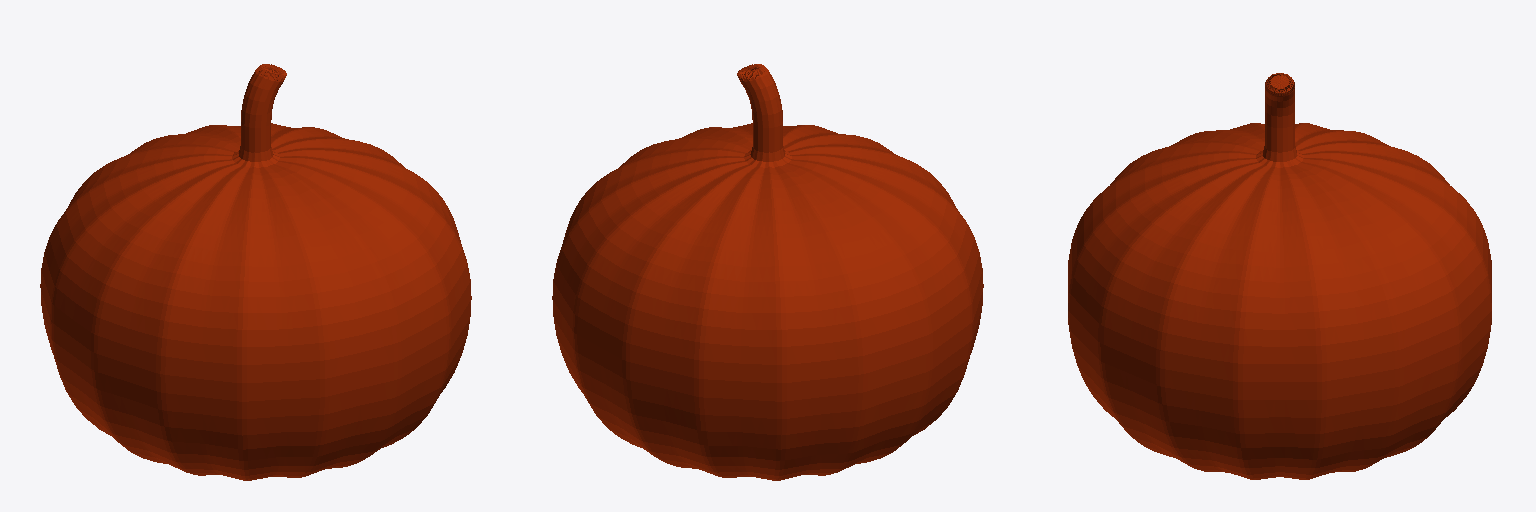
File: aboboraSimples.obj
The picture shows the model from 3 angles: view 1: azimuth 30°, elevation 25°; view 2: azimuth 150°, elevation 25°; view 3: azimuth 270°, elevation 25°; orthographic projection.
Parts seen in each view (by area): view 1: Sphere; view 2: Sphere; view 3: Sphere.
Part boxes in pixels (x1,y1,x2,y2): Sphere: (40, 64, 471, 480); Sphere: (552, 64, 983, 480); Sphere: (1068, 73, 1491, 479).
Size of the model in its own units: 5.71 by 5.54 by 5.71.